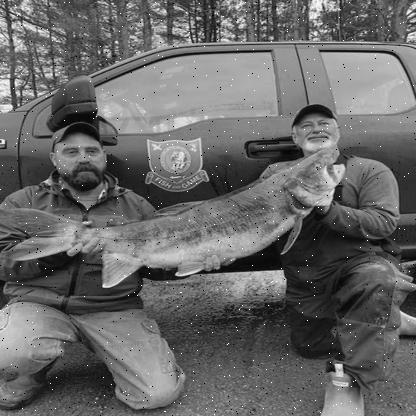fish: (10, 147, 349, 288)
